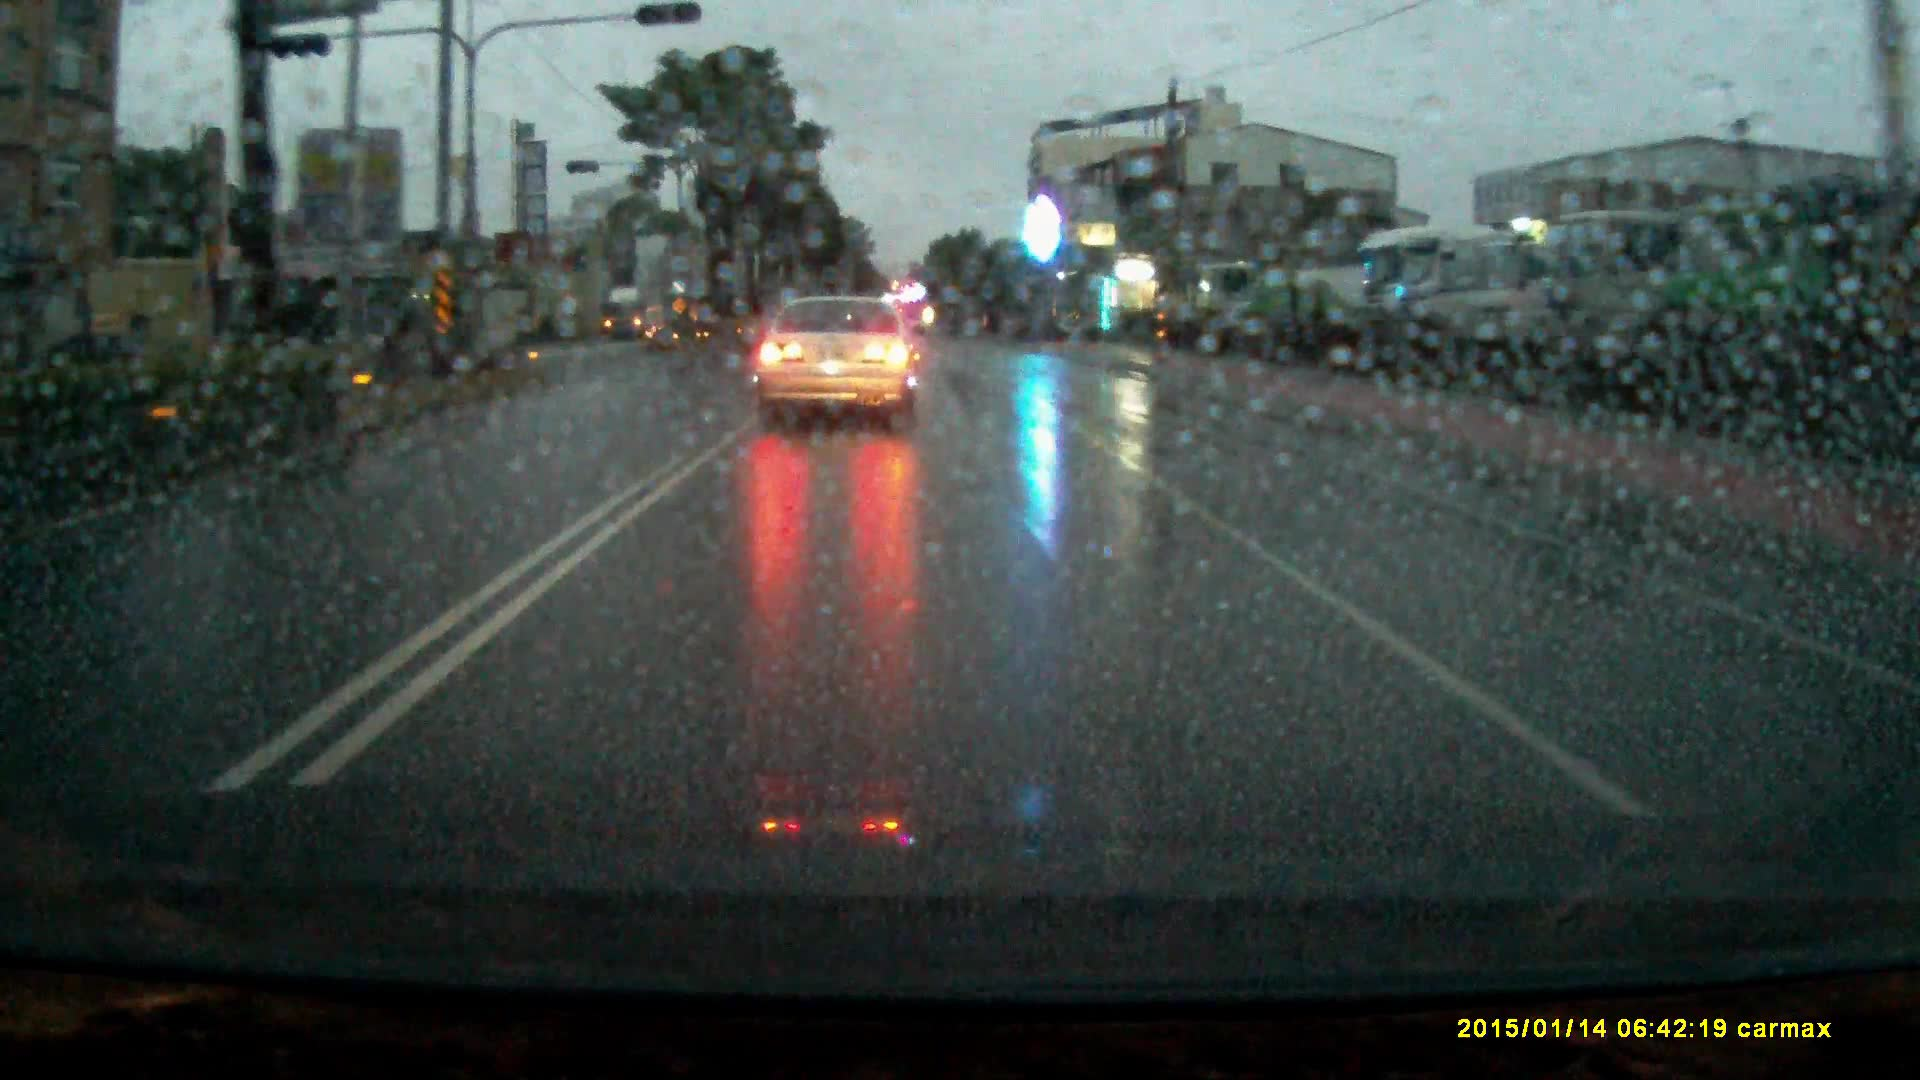vehicle: (1681, 194, 1830, 434), (1555, 204, 1685, 404), (754, 297, 923, 430), (1431, 225, 1552, 375), (1358, 233, 1451, 347), (1236, 269, 1379, 334), (1197, 262, 1263, 328), (605, 285, 667, 342)
